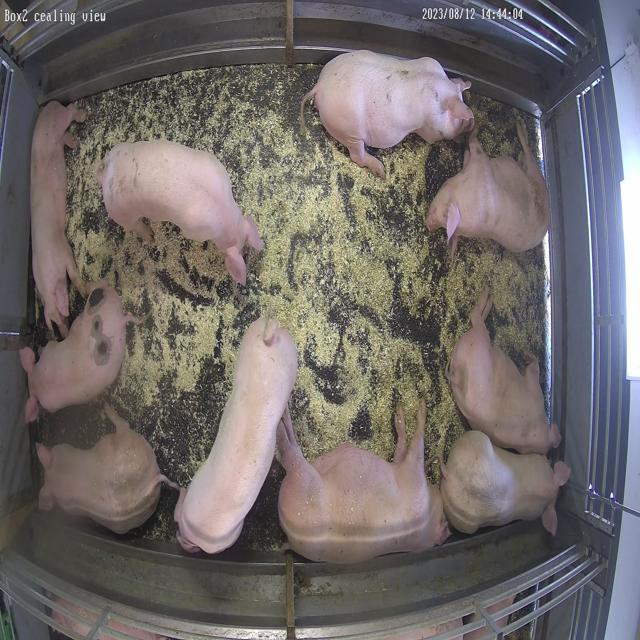Dirt: (477, 95, 515, 134)
Pig: (175, 319, 297, 554), (277, 402, 451, 564), (98, 141, 264, 284), (306, 50, 475, 176), (447, 290, 562, 455), (36, 404, 171, 534), (427, 118, 551, 252), (441, 431, 571, 536), (28, 289, 133, 412), (31, 100, 85, 336)
